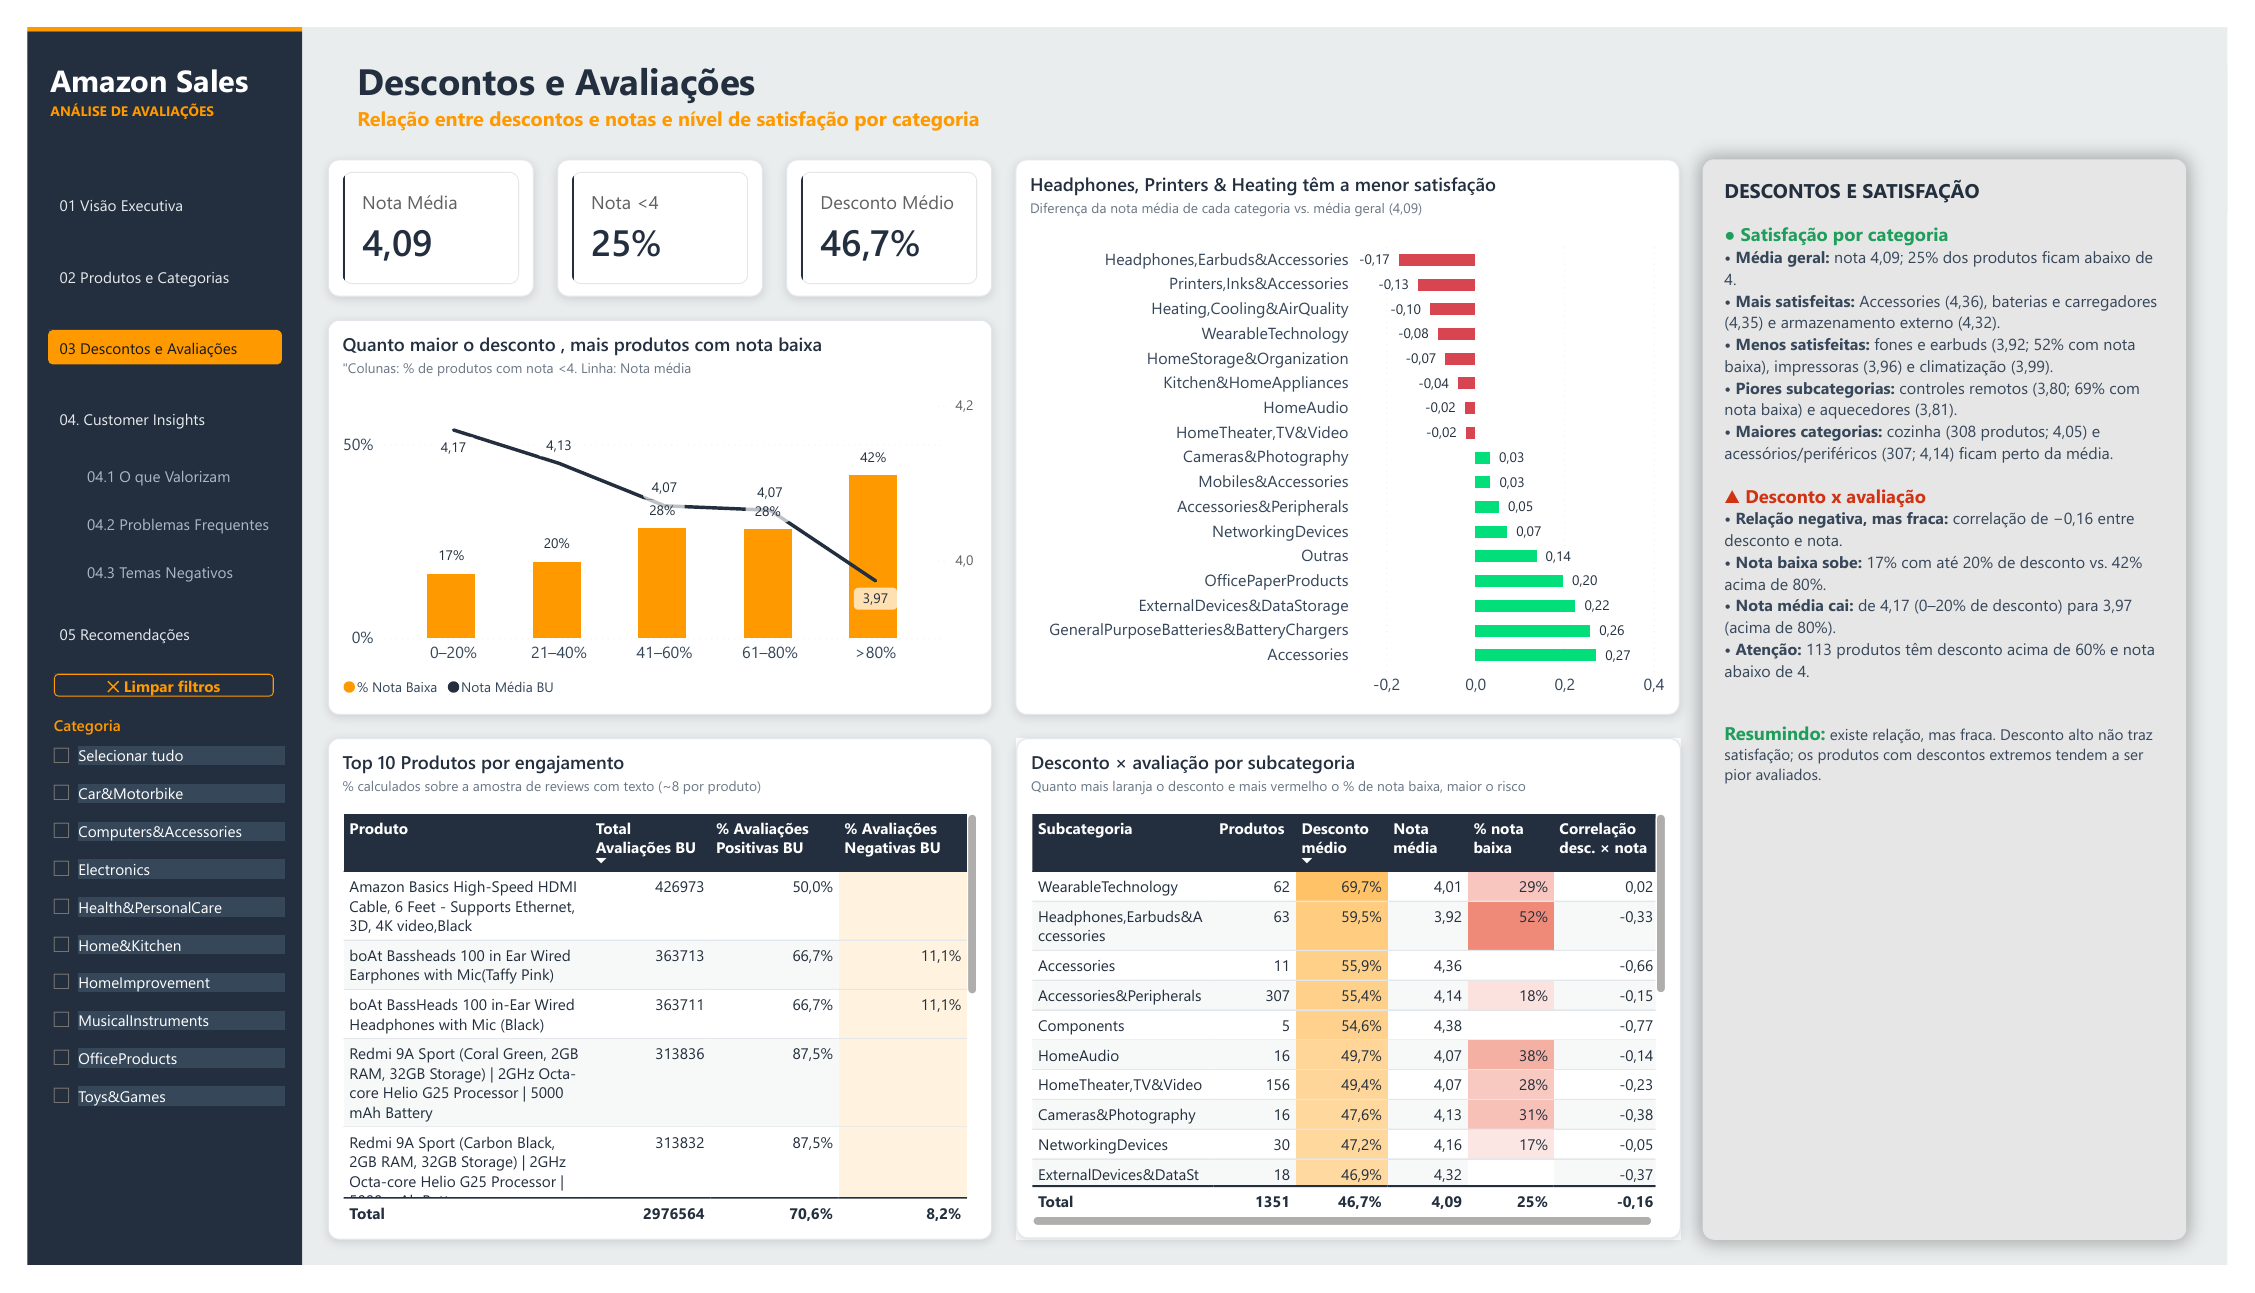

What the dashboard file says about the page in this screenshot:
{"tool":"powerbi","page":{"name":"03 Descontos e Avaliações","canvas":[1920,1080],"ordinal":2},"visuals":[{"type":"cardVisual","fields":{"Data":["Medidas_BU.Nota Média BU"]},"box":[262,115,180,120],"z":0},{"type":"textbox","box":[0,0,240,110],"z":1000},{"type":"tableEx","title":"Desconto × avaliação por subcategoria","fields":{"Values":["BU_dProdutos.categoria_n2_grupo","Medidas_BU.Nº Produtos BU","Medidas_BU.Desconto Médio BU","Medidas_BU.Nota Média BU","Medidas_BU.% Nota Baixa BU","Medidas_BU.Correlação Desconto x Nota BU"]},"box":[862.5,620,580,437.5],"z":1000,"group":"g1"},{"type":"cardVisual","fields":{"Data":["Medidas_BU.% Nota Baixa BU"]},"box":[462,115,180,120],"z":2000},{"type":"cardVisual","fields":{"Data":["Medidas_BU.Desconto Médio BU"]},"box":[662,115,180,120],"z":3000},{"type":"lineClusteredColumnComboChart","title":"Quanto maior o desconto , mais produtos com nota baixa","fields":{"Category":["BU_dProdutos.faixa_desconto"],"Y":["Medidas_BU.% Nota Baixa BU"],"Y2":["Medidas_BU.Nota Média BU"]},"box":[262,255,580,345],"z":4000},{"type":"clusteredBarChart","title":"Headphones, Printers & Heating têm a menor satisfação","fields":{"Category":["BU_dProdutos.categoria_n2_grupo"],"Y":["Medidas_BU.Gap vs Média BU"]},"box":[862,115,580,485],"z":5000},{"type":"tableEx","title":"Top 10 Produtos por engajamento","fields":{"Values":["BU_dProdutos.product_name","Medidas_BU.Total Avaliações BU","Medidas_BU.% Avaliações Positivas BU","Medidas_BU.% Avaliações Negativas BU"]},"box":[262,620,580,438],"z":6000},{"type":"actionButton","box":[6,130,228,50],"z":7000},{"type":"actionButton","box":[6,192,228,50],"z":8000},{"type":"actionButton","box":[6,254,228,50],"z":9000},{"type":"actionButton","box":[6,504,228,50],"z":10000},{"type":"actionButton","box":[6,316,228,50],"z":11000},{"type":"actionButton","box":[30,372,198,38],"z":12000},{"type":"actionButton","box":[30,414,198,38],"z":13000},{"type":"actionButton","box":[30,456,198,38],"z":14000},{"type":"group","id":"g1","title":"Grupo 1","box":[862.5,620,580,437.5],"z":15000},{"type":"slicer","fields":{"Values":["BU_dProdutos.categoria_n1"]},"box":[11.4,600,217.1,351.4],"z":16000},{"type":"actionButton","box":[11.4,554.3,216,40],"z":17000},{"type":"textbox","box":[276,14,1600,92],"z":18000},{"type":"textbox","box":[1462,115,422,943],"z":19000}]}

Visuals, with their boxes on the page's 1920x1080 design canvas (x1, y1, x2, y2). These are canvas units, not pixel positions in the 2255x1293 screenshot, which may show the page scaled, cropped or inside an application window:
cardVisual - Medidas_BU.Nota Média BU: 262,115,442,235
textbox: 0,0,240,110
"Desconto × avaliação por subcategoria" tableEx: 862,620,1442,1058
cardVisual - Medidas_BU.% Nota Baixa BU: 462,115,642,235
cardVisual - Medidas_BU.Desconto Médio BU: 662,115,842,235
"Quanto maior o desconto , mais produtos com nota baixa" lineClusteredColumnComboChart: 262,255,842,600
"Headphones, Printers & Heating têm a menor satisfação" clusteredBarChart: 862,115,1442,600
"Top 10 Produtos por engajamento" tableEx: 262,620,842,1058
actionButton: 6,130,234,180
actionButton: 6,192,234,242
actionButton: 6,254,234,304
actionButton: 6,504,234,554
actionButton: 6,316,234,366
actionButton: 30,372,228,410
actionButton: 30,414,228,452
actionButton: 30,456,228,494
"Grupo 1" group: 862,620,1442,1058
slicer - BU_dProdutos.categoria_n1: 11,600,228,951
actionButton: 11,554,227,594
textbox: 276,14,1876,106
textbox: 1462,115,1884,1058
